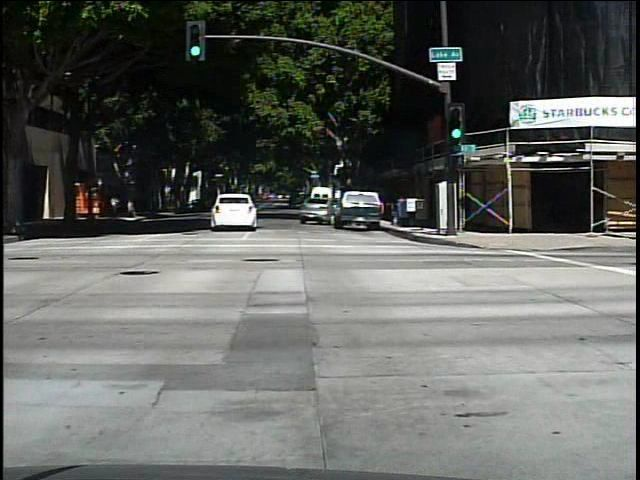person: (106, 188, 122, 221)
